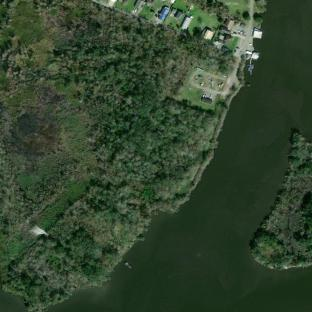Floresta: (33, 0, 238, 292), (5, 253, 67, 312), (251, 227, 312, 270), (289, 132, 312, 177), (298, 191, 312, 248)
